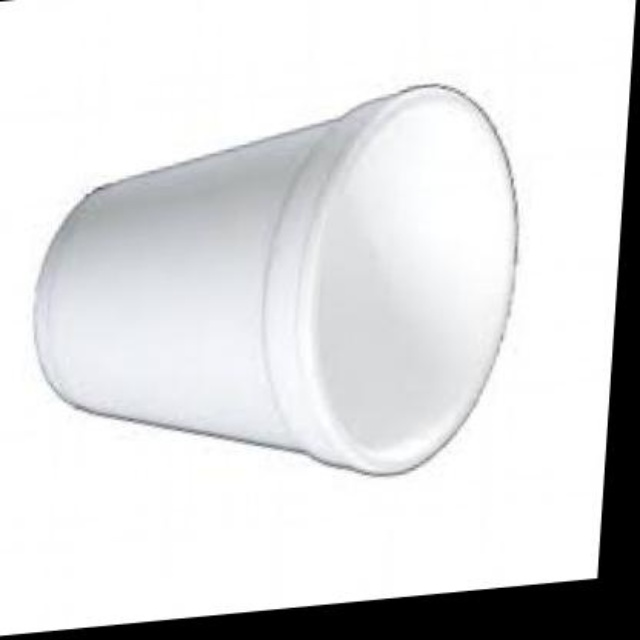trash: (34, 85, 517, 472)
